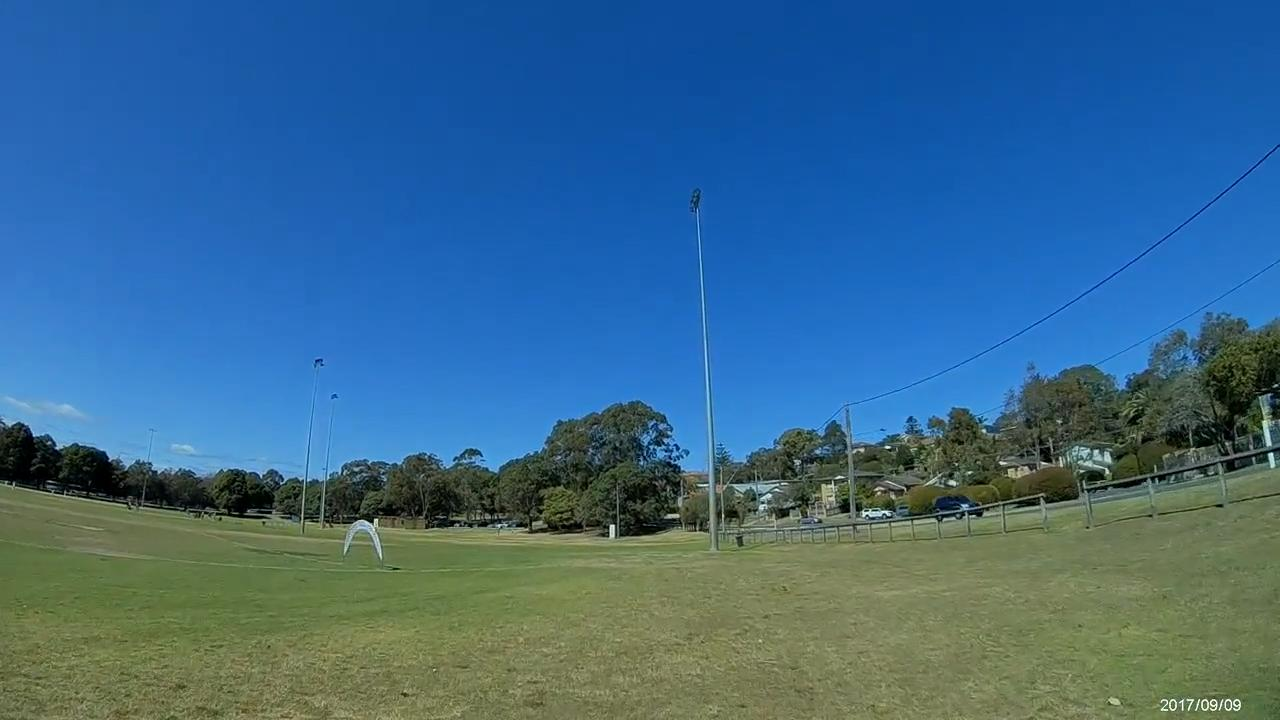gate: (341, 520, 383, 561)
